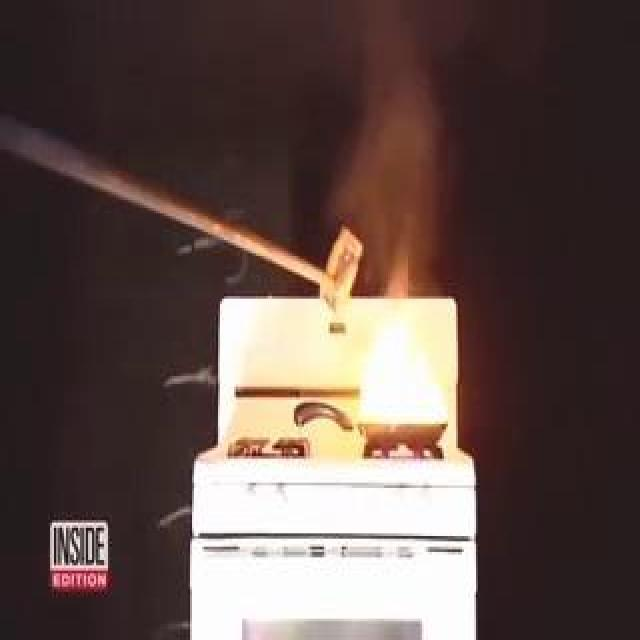Fire: (353, 204, 439, 439)
